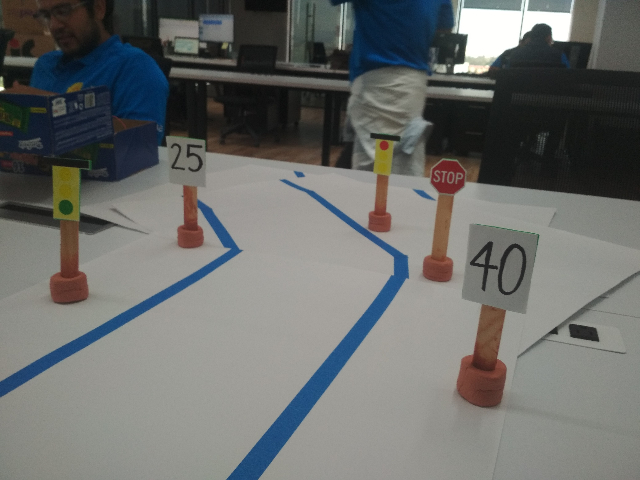Green Traffic Light: (37, 154, 91, 222)
Red Traffic Light: (365, 132, 399, 177)
Speed Limit 25: (160, 134, 208, 186)
Speed Limit 40: (459, 222, 540, 313)
Stop Sign: (428, 157, 467, 197)
